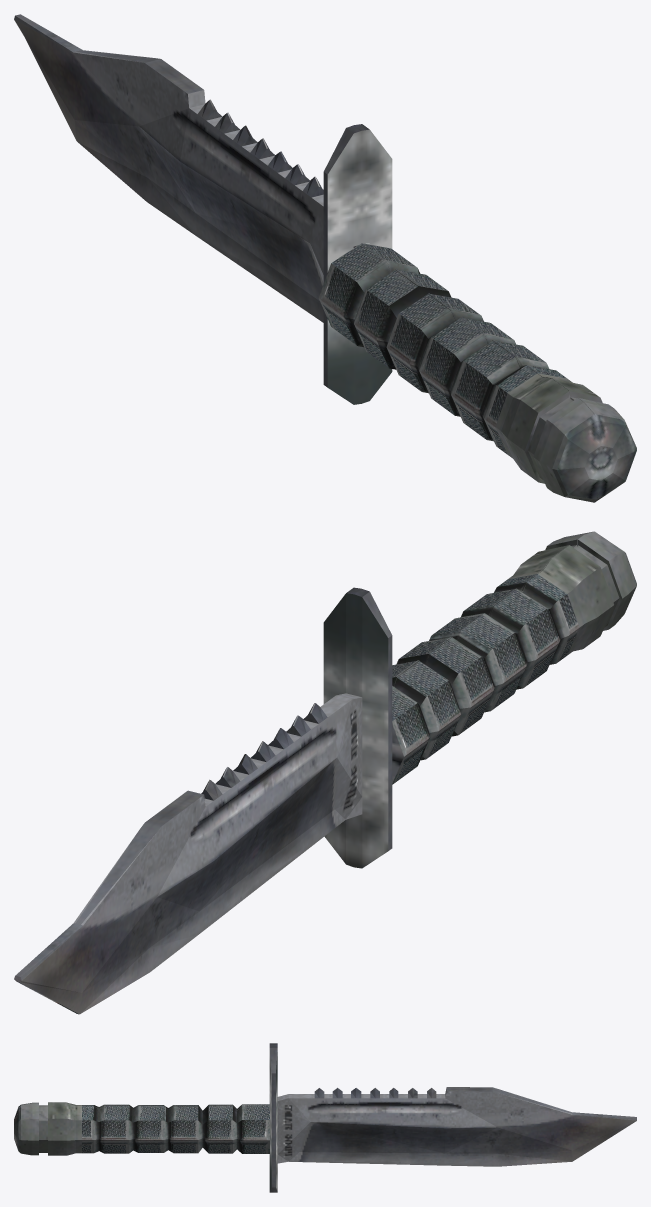
Rendered from w_knife.obj.
3 views of the same model, one above another, from view 1: azimuth 30°, elevation 25°; view 2: azimuth 150°, elevation 25°; view 3: azimuth 270°, elevation 25° (orthographic). The views are drawn at different scales.
Visible parts, largest first — view 1: Cylinder; view 2: Cylinder; view 3: Cylinder.
Part boxes in pixels (box(x1,y1,x2,y2)): Cylinder: box(14, 14, 636, 502); Cylinder: box(14, 531, 636, 1014); Cylinder: box(14, 1043, 636, 1192).
Bounding box in the file's own units: 1.1 × 3.21 × 12.41.
